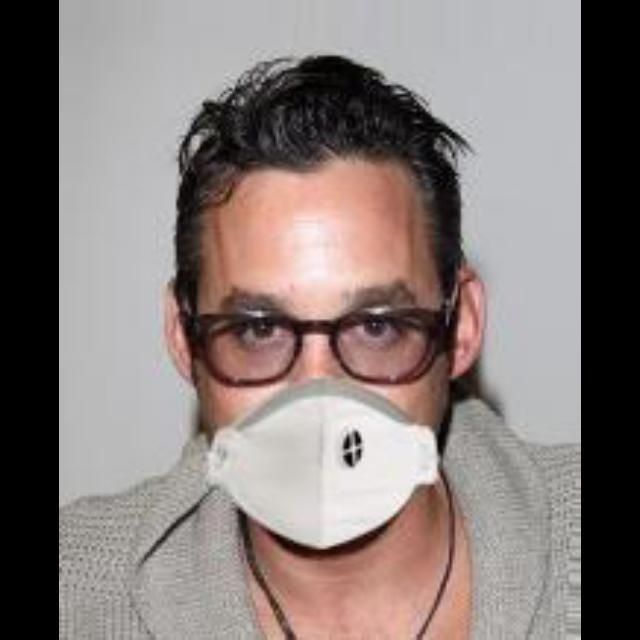suspicion: (158, 70, 500, 558)
